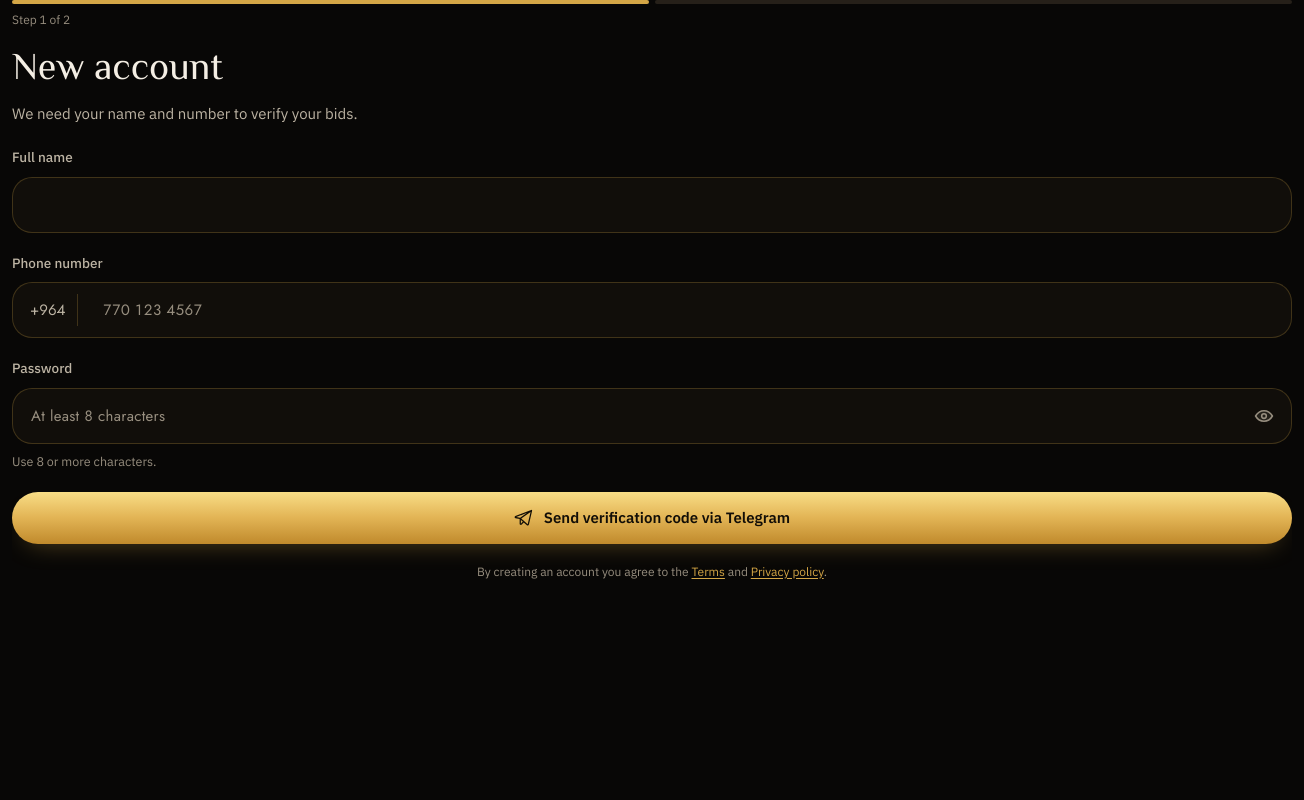
it: RegisterForm — sign-up with OTP › does not request a code while the details are invalid
Type "not-a-phone" into the field labelled "Phone number" at (652, 310), box [12,282,1292,338]
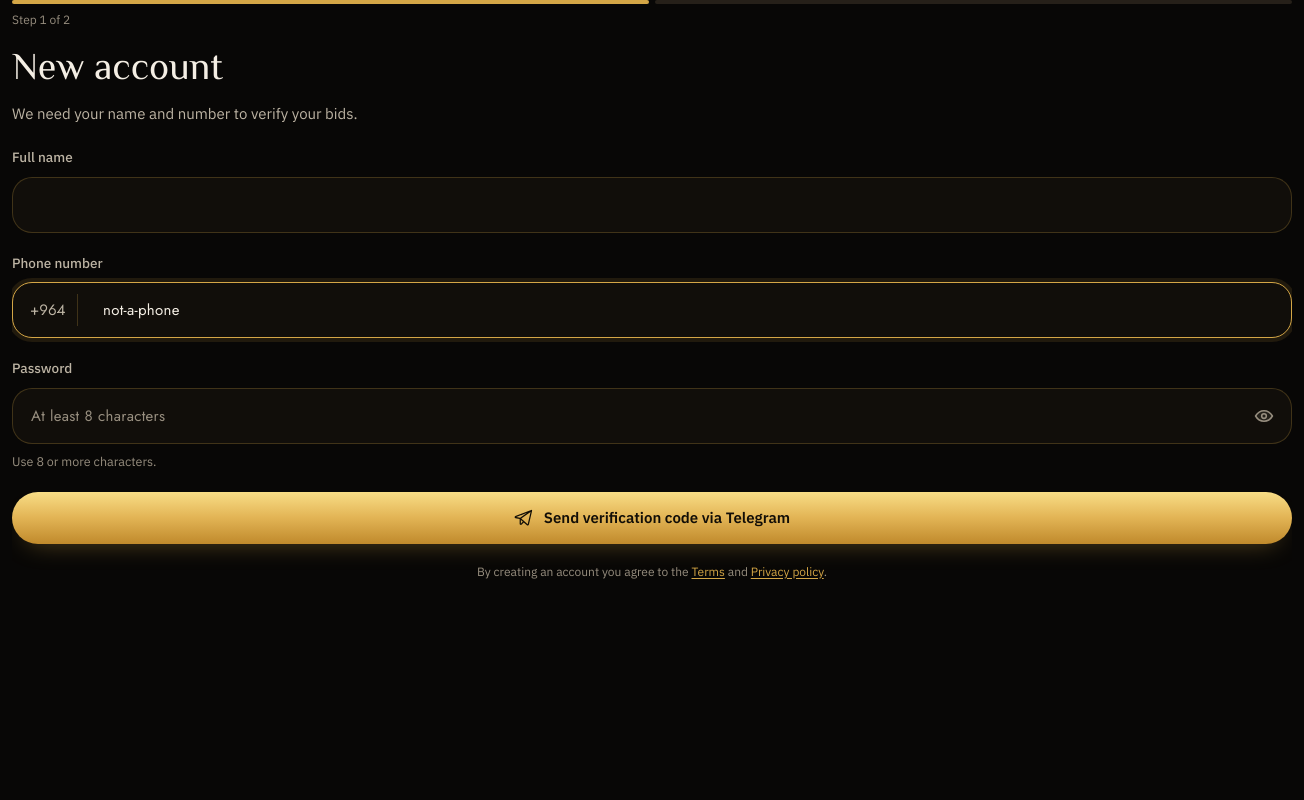
Click the button "Send verification code via Telegram" at (652, 518), box [12,492,1292,544]
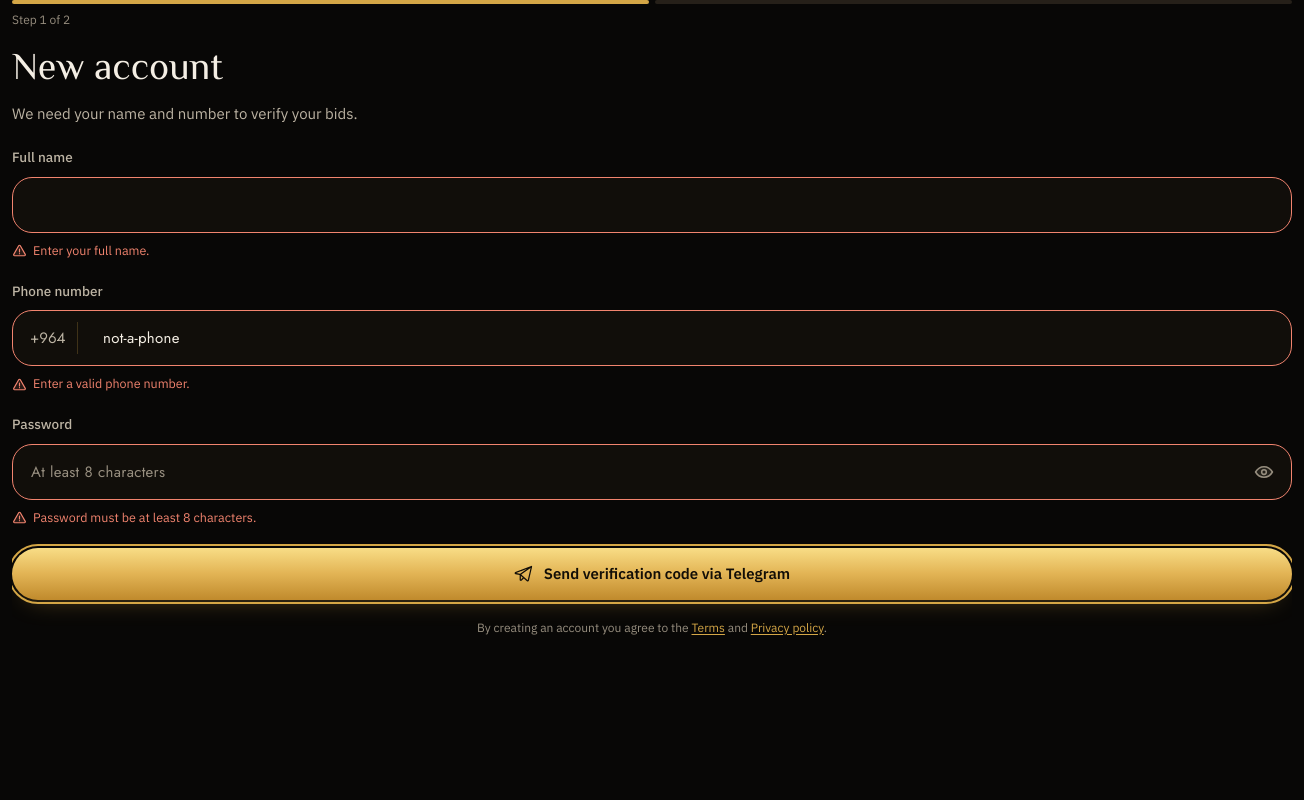
Now the text "Enter a valid phone number." is shown, box [12,374,190,393]
